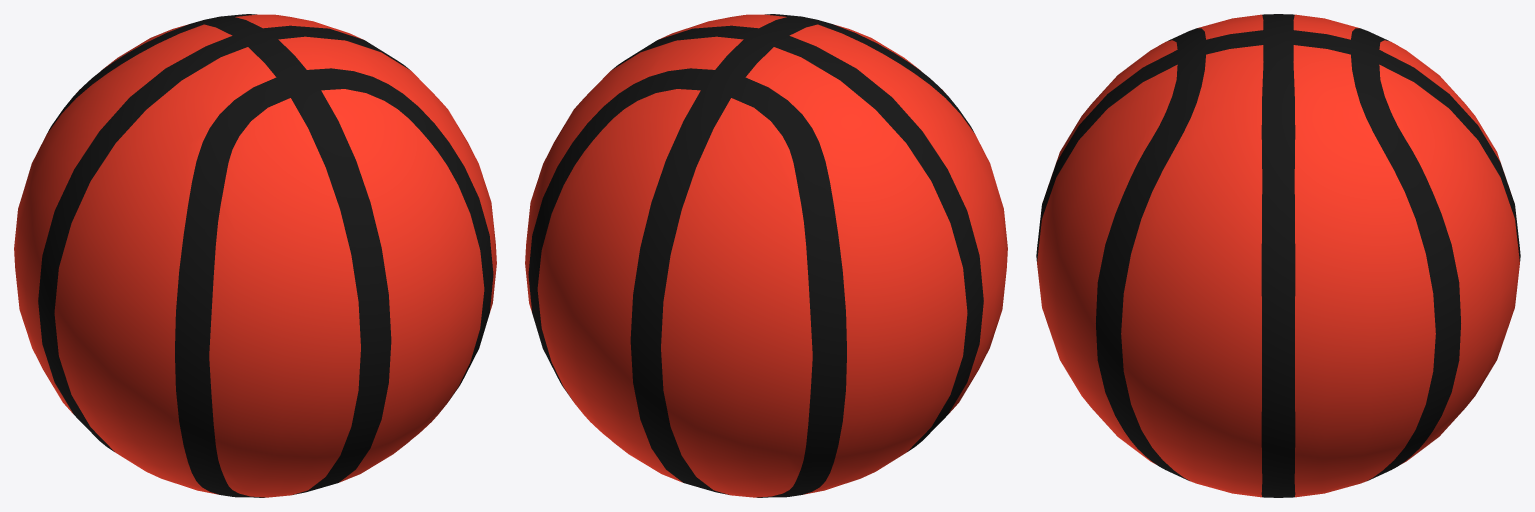
Rendered from Ball Red.fbx.
3 renders of one model, left to right at view 1: azimuth 30°, elevation 25°; view 2: azimuth 150°, elevation 25°; view 3: azimuth 270°, elevation 25°, orthographic.
Visible parts, largest first — view 1: Ball Red; view 2: Ball Red; view 3: Ball Red.
Part boxes in pixels (left/top/right/bottom): Ball Red: left=14, top=14, right=496, bottom=497; Ball Red: left=525, top=14, right=1007, bottom=497; Ball Red: left=1036, top=14, right=1520, bottom=497.
Size of the model in its own units: 88.89 by 88.89 by 88.89.
